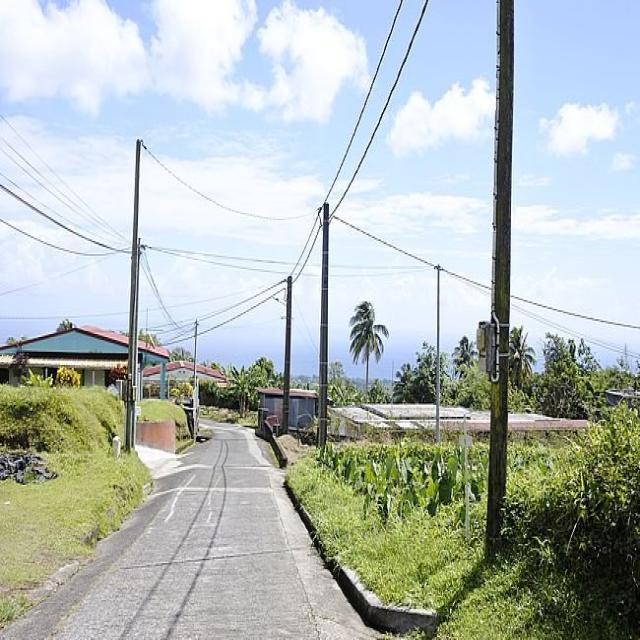Electric pole: (124, 139, 140, 450), (318, 201, 330, 449)
